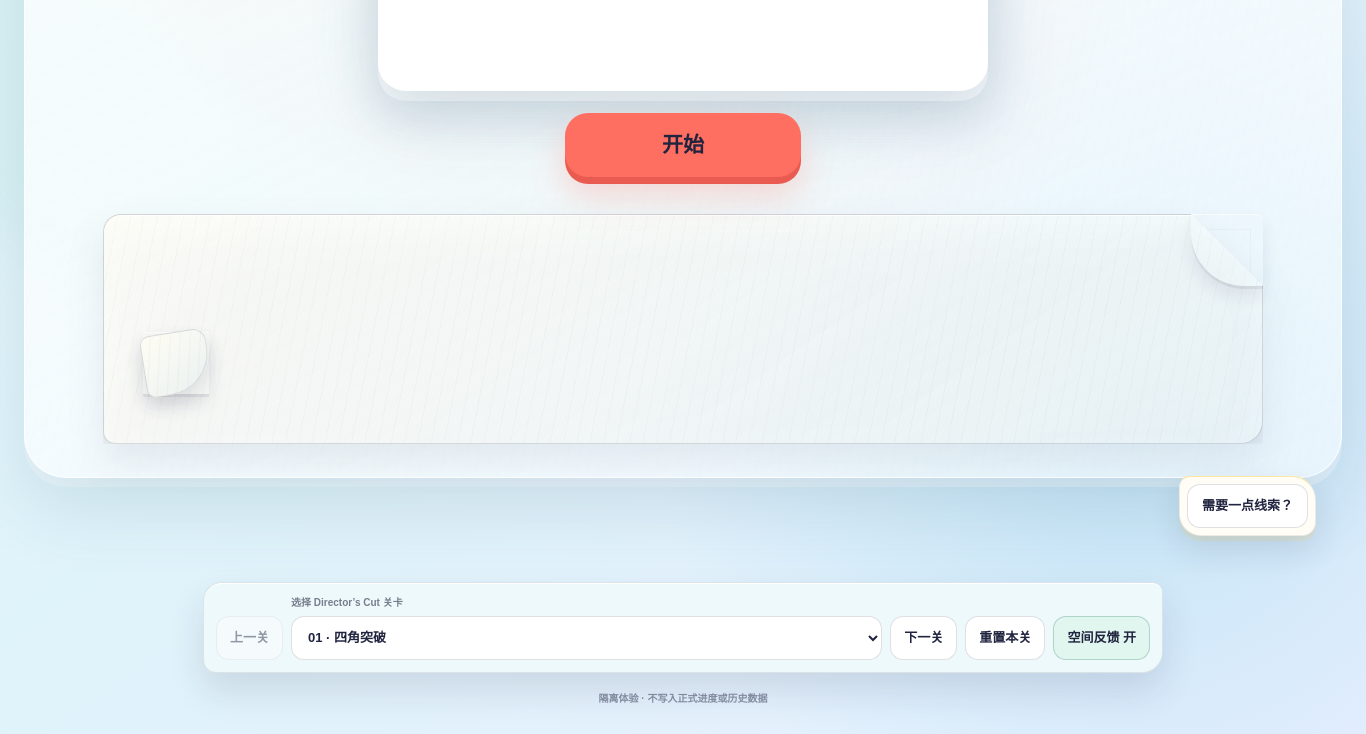
Scenario: Director's Cut 36-level isolated campaign › keeps H1 visual-only, H2 relational, and H3 explicit
The width and height of the screenshot is (1366, 734).
(page scrolled)
Step 1. Click the button "需要一点线索？" → click(1248, 506), box [1187,484,1308,528]
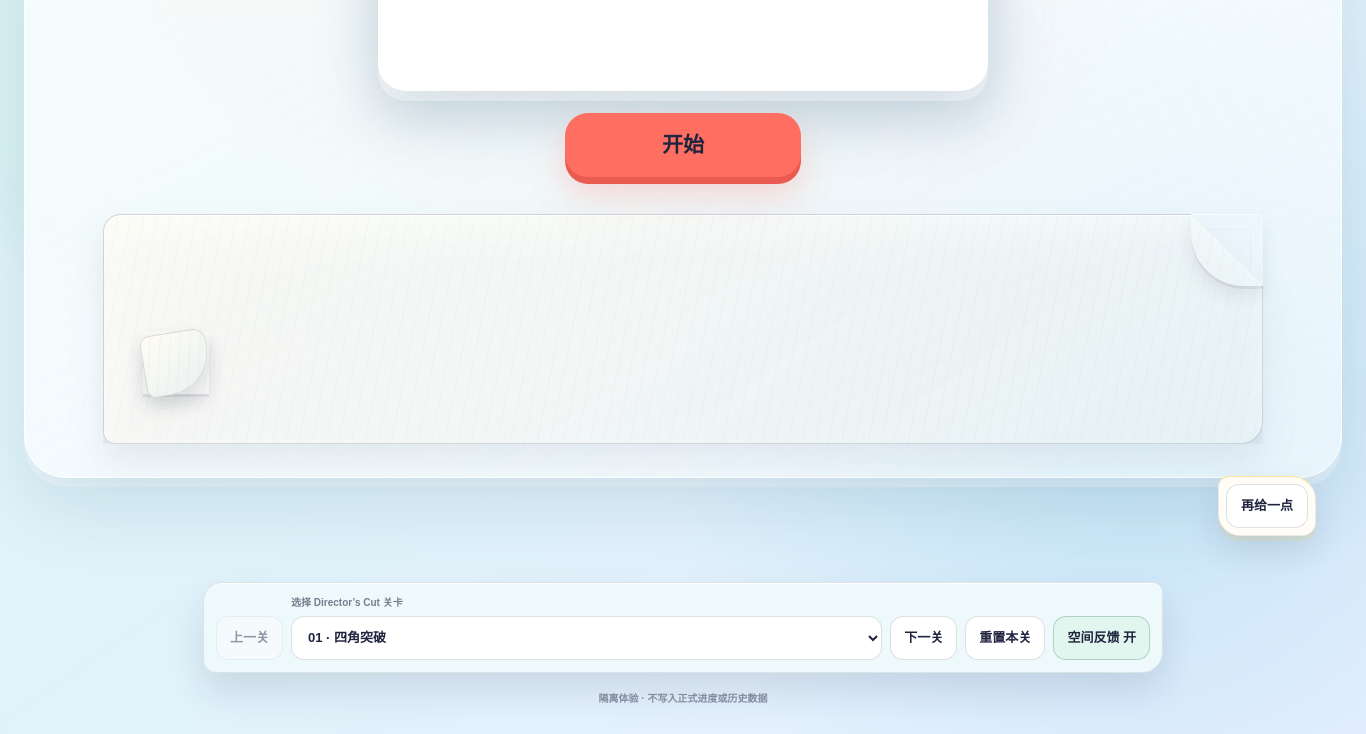
expect the text "页边碎片与缺口拥有同一段纤维方向" is not shown: met
Step 2. Click the button "再给一点" → click(1267, 506), box [1226,484,1308,528]
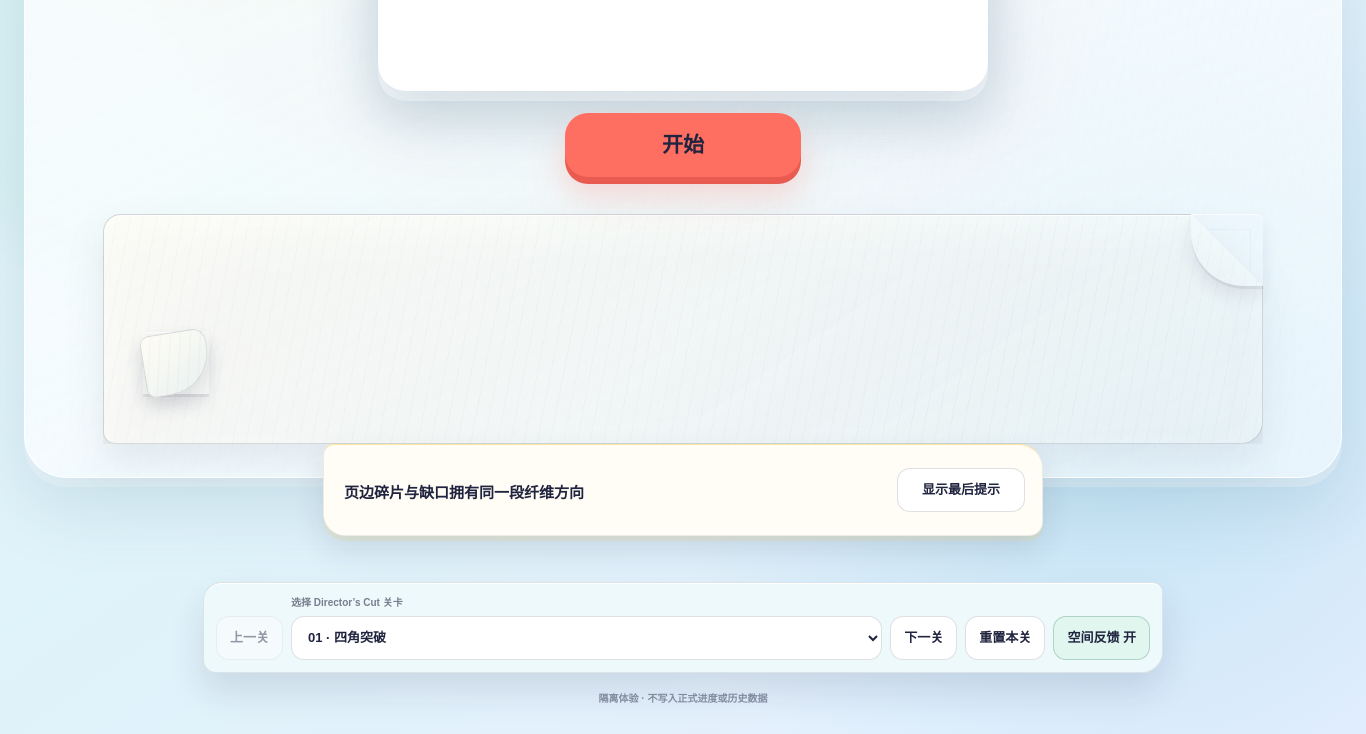
expect the text "页边碎片与缺口拥有同一段纤维方向" is shown: met, box [344,484,584,501]
Step 3. Click the button "显示最后提示" → click(961, 490), box [897,468,1025,512]
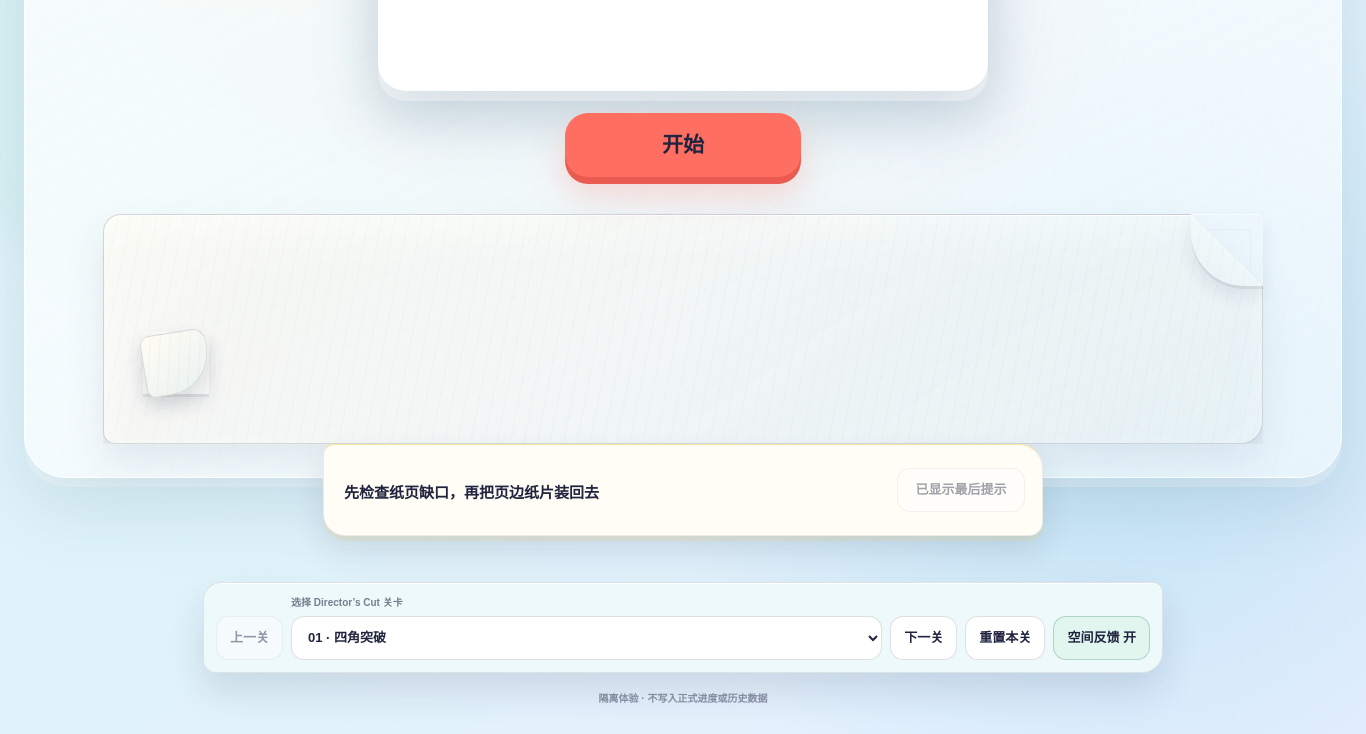
expect the text "先检查纸页缺口，再把页边纸片装回去" is shown: met, box [344,484,599,501]
